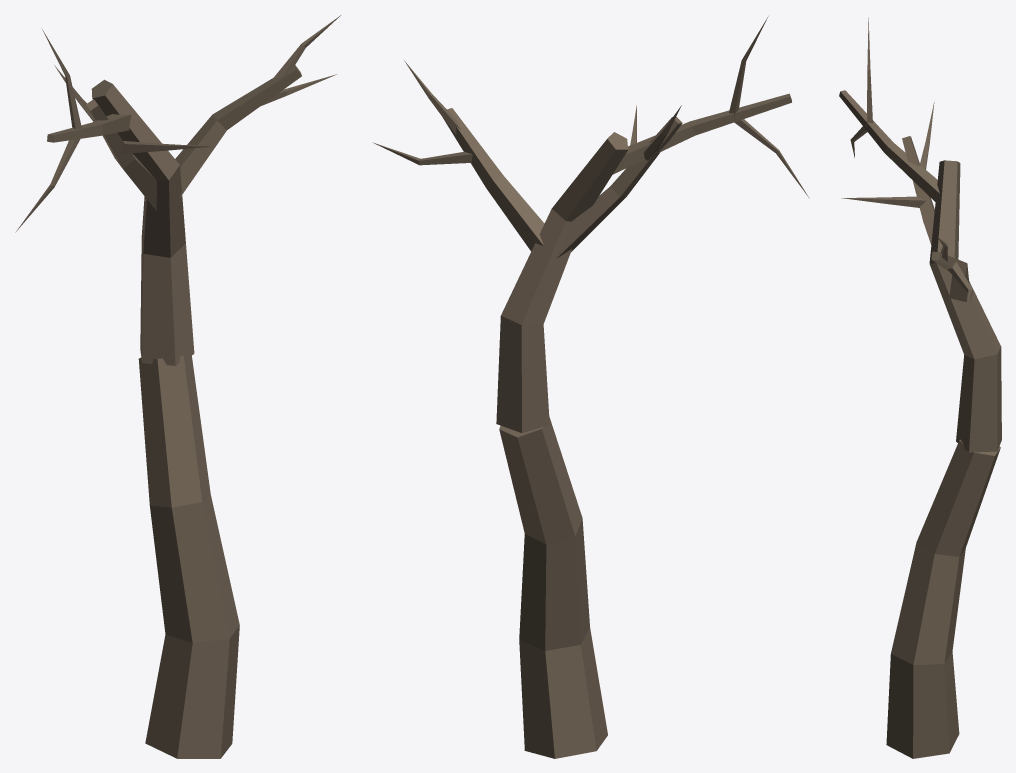
Rendered from Tree_Dead_A.glb.
The picture shows the model from 3 angles, left to right: view 1: azimuth 30°, elevation 25°; view 2: azimuth 150°, elevation 25°; view 3: azimuth 270°, elevation 25°; orthographic projection. The views are drawn at different scales.
Visible parts, largest first — view 1: Tree_Dead_A; view 2: Tree_Dead_A; view 3: Tree_Dead_A.
Boxes of the visible parts, left/top/right/bottom form: Tree_Dead_A: left=15, top=15, right=340, bottom=758; Tree_Dead_A: left=373, top=16, right=809, bottom=758; Tree_Dead_A: left=839, top=17, right=1001, bottom=758.
Bounding box in the file's own units: 2 × 3.84 × 0.8641.
